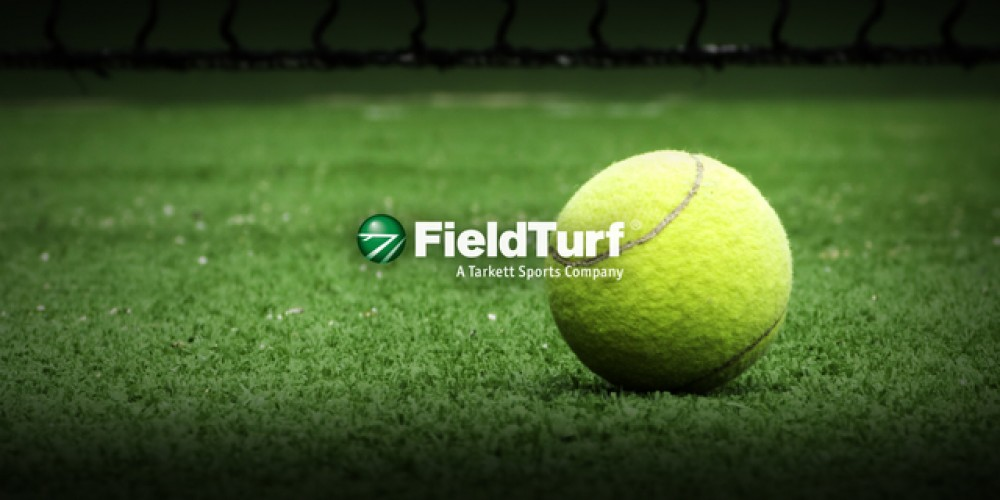tennis_ball: (540, 146, 796, 390)
